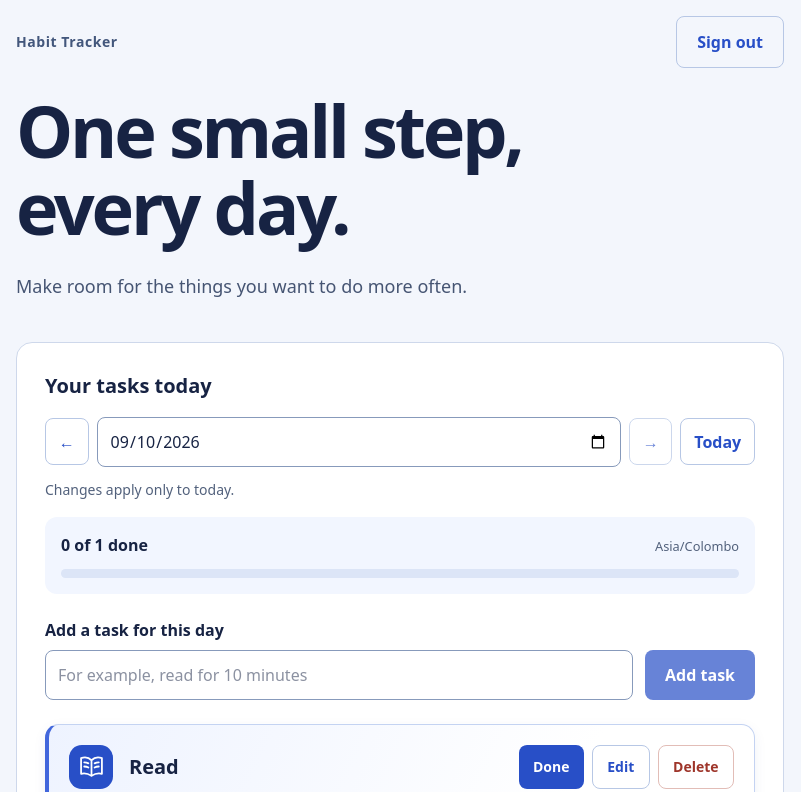
Test: request and account reliability › ignores an earlier calendar response after navigating to another day
Expected: the heading "Read" is shown, [129,753,179,780]
Click the button named "Previous day" at (67, 442), box [45,418,89,465]
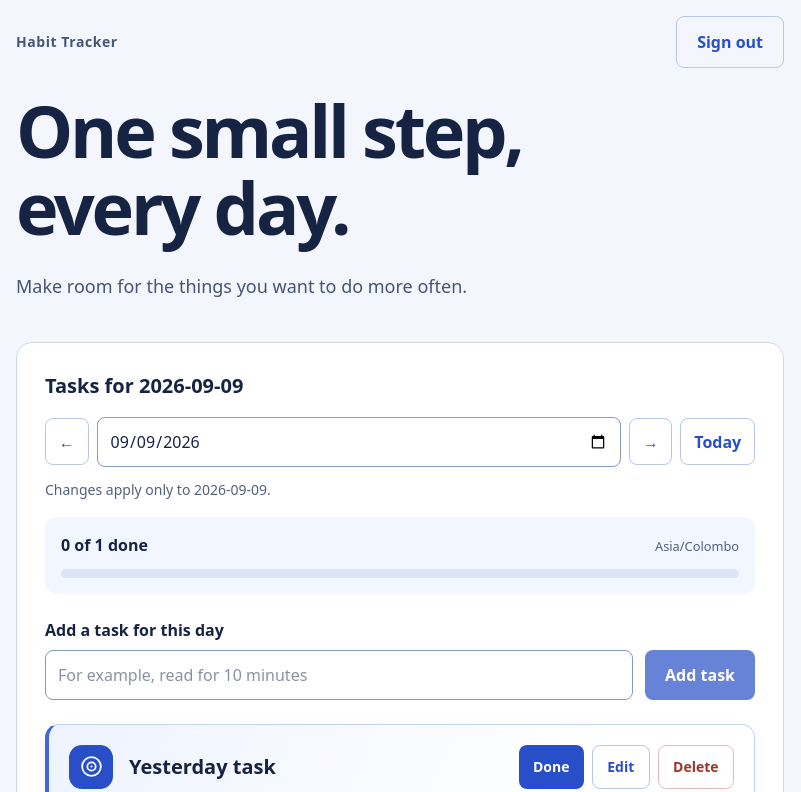
Now the heading "Yesterday task" is shown, box [129,753,276,780]
Now the heading "Tasks for 2026-09-09" is shown, box [45,372,243,399]
